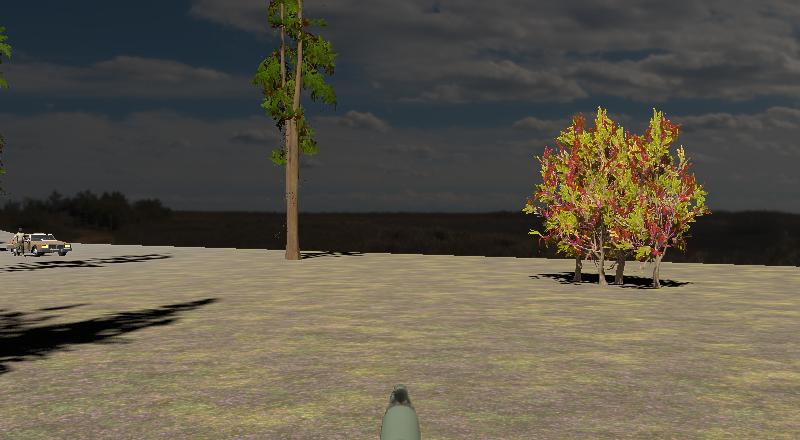Human: (11, 230, 29, 257)
car: (16, 231, 73, 258)
